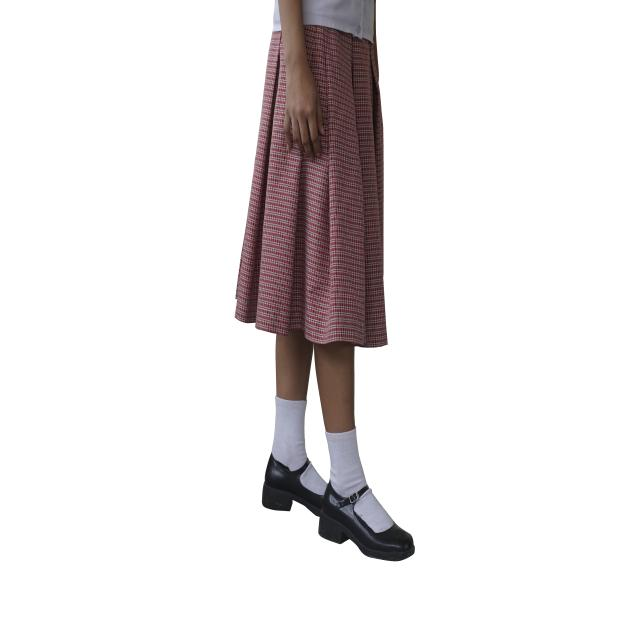shoes: (262, 454, 415, 561)
skirt: (235, 26, 387, 347)
